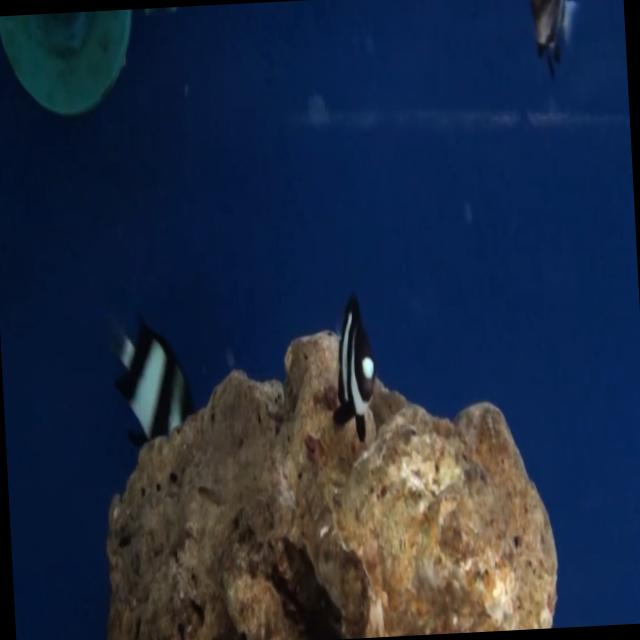ThreeStripedDamselfish: (110, 312, 201, 448), (327, 289, 379, 447)
